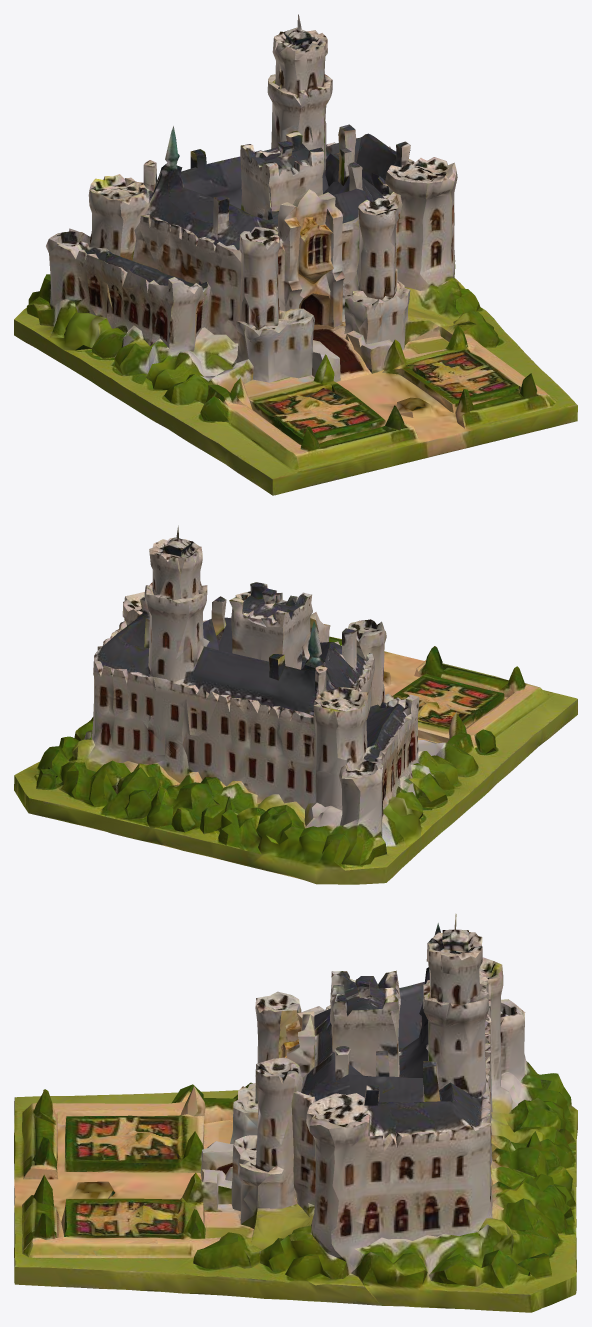
The model's file is hluboka-castle.glb.
The picture shows the model from 3 angles, top to bottom: view 1: azimuth 30°, elevation 25°; view 2: azimuth 150°, elevation 25°; view 3: azimuth 270°, elevation 25°; orthographic projection. The views are drawn at different scales.
Parts seen in each view (by area): view 1: logan-textured.obj; view 2: logan-textured.obj; view 3: logan-textured.obj.
Boxes of the visible parts, box(x1,y1,x2,y2) form: logan-textured.obj: box(14, 14, 577, 495); logan-textured.obj: box(14, 525, 577, 884); logan-textured.obj: box(14, 913, 577, 1312).
Bounding box in the file's own units: 0.9016 × 0.6352 × 1.
1 material, 1 textured.
